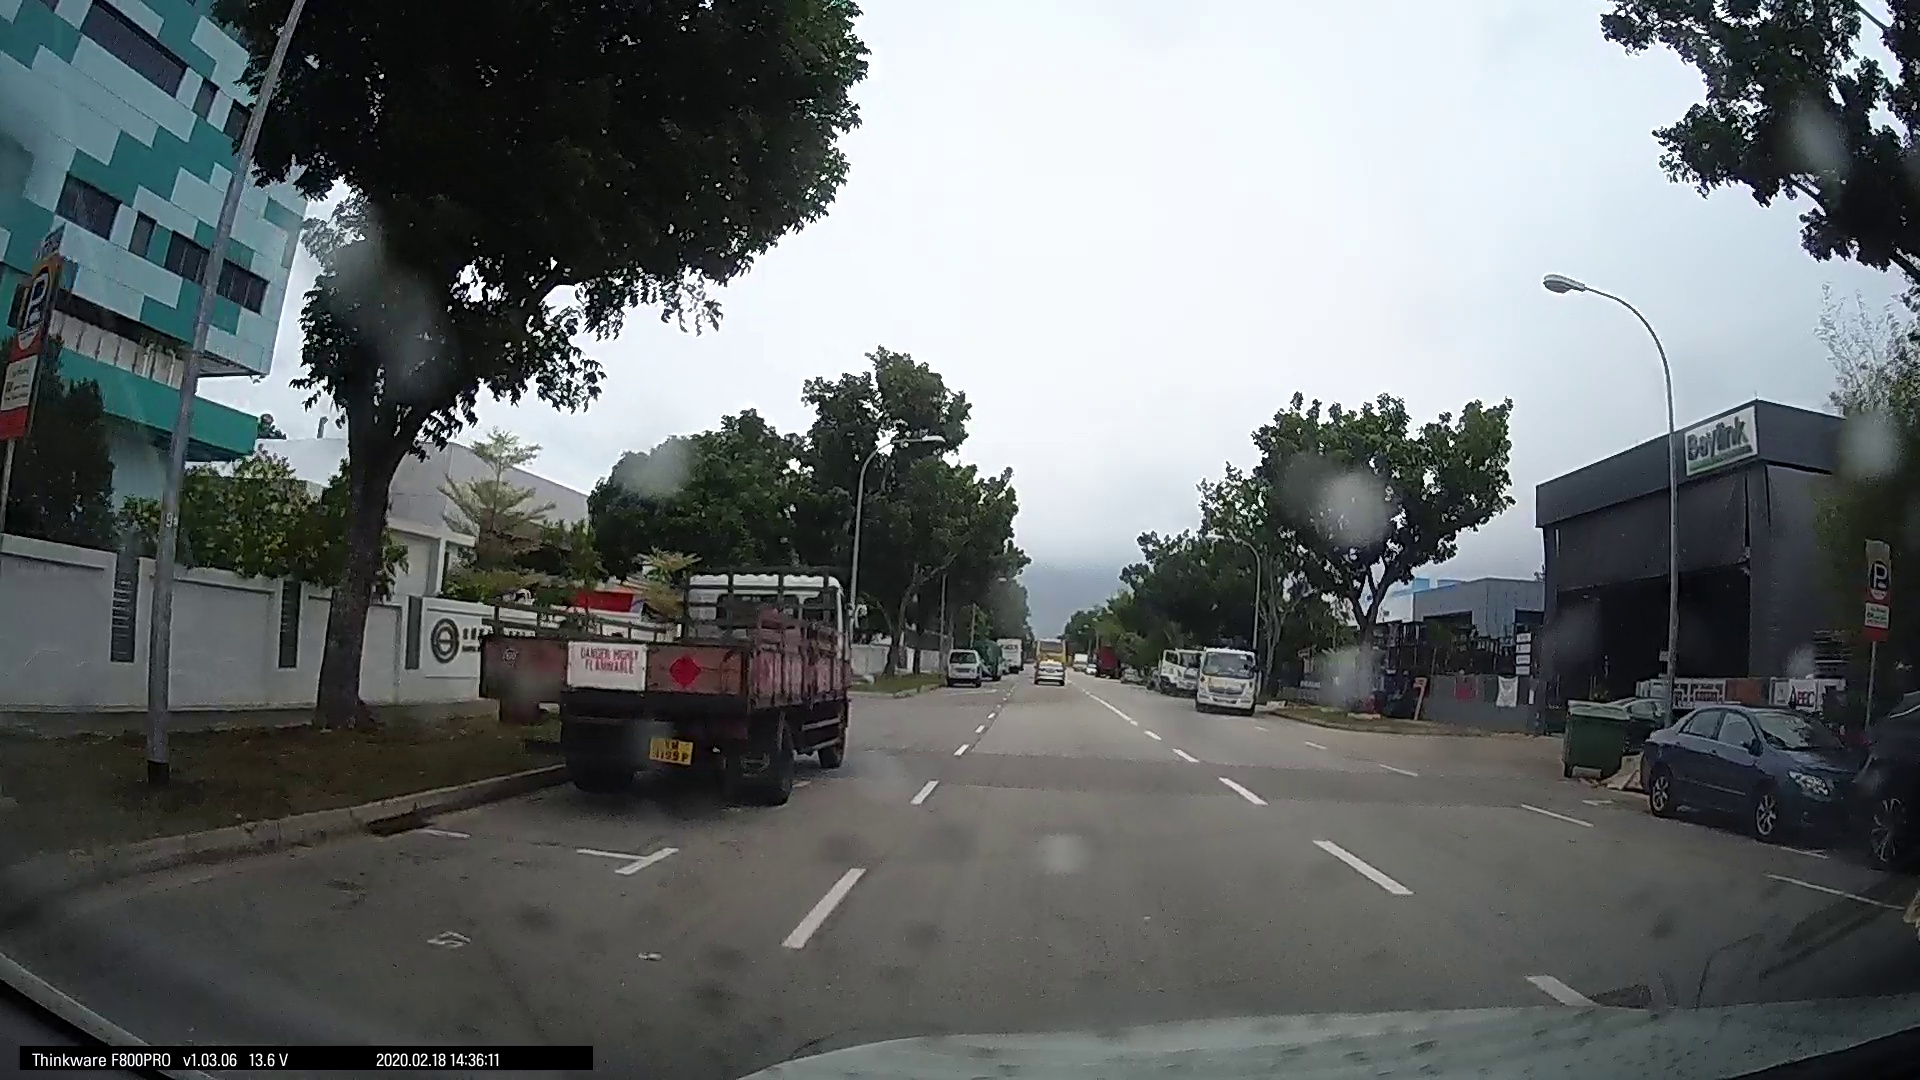Heavy Vehicle: (537, 560, 853, 791)
Light Vehicle: (1636, 699, 1863, 839), (1183, 644, 1259, 712), (940, 642, 989, 686), (1025, 644, 1065, 683)
